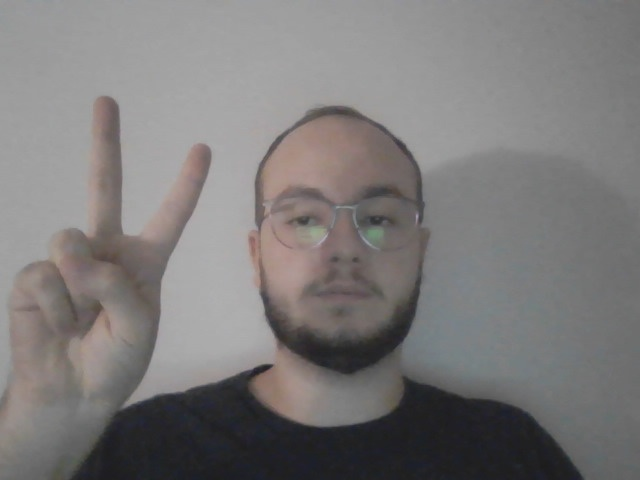One: (9, 93, 211, 408)
